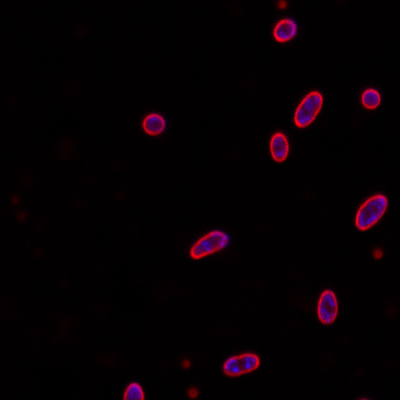MP265: (354, 194, 389, 232), (293, 90, 324, 128), (222, 353, 261, 378), (316, 288, 338, 325), (269, 132, 290, 163), (361, 88, 381, 111)
Oblique: (188, 230, 228, 260), (140, 114, 167, 137), (273, 19, 296, 43)
Vesicle: (372, 248, 384, 261), (186, 387, 198, 399), (277, 1, 288, 10), (182, 360, 190, 368)
